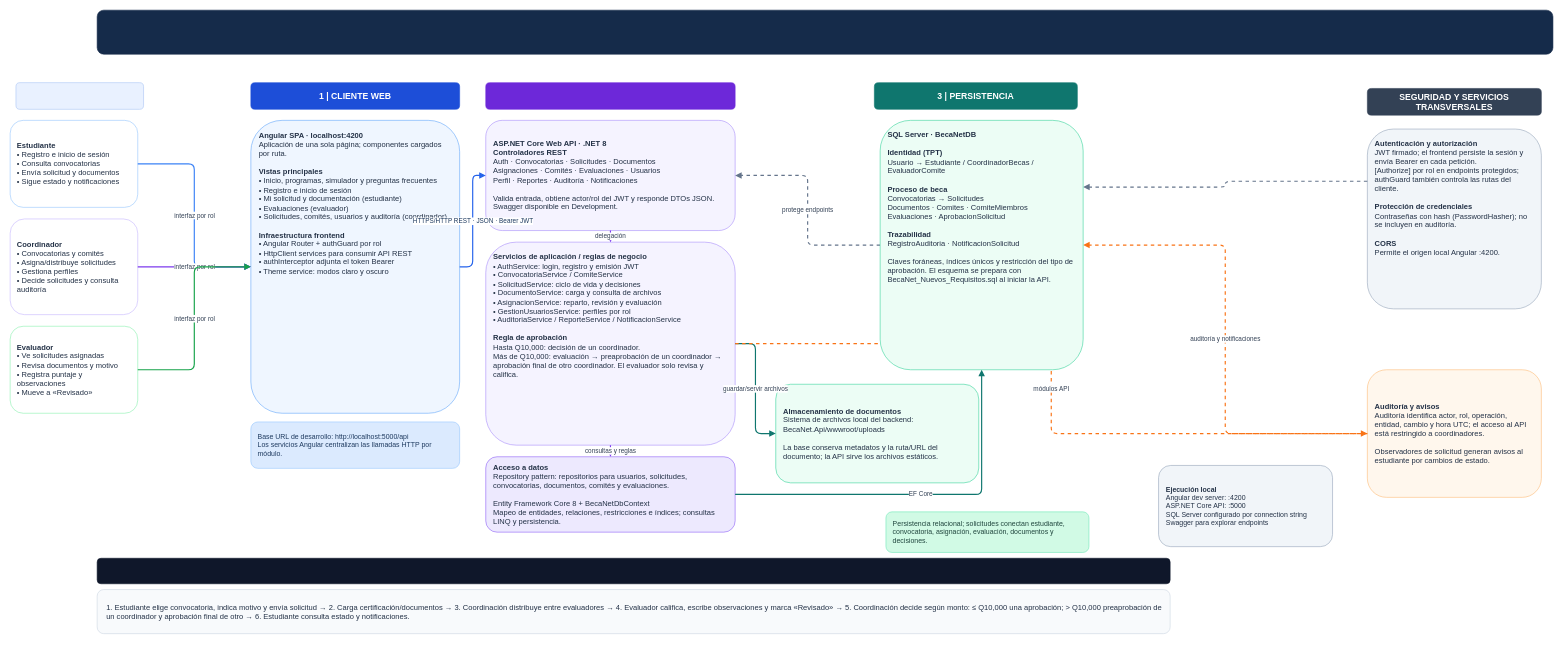
This 1563x667 diagram has some shape labels left out. Here are the shapes that lost their labels. From the top down, the centre of each, then its label:
At (825,32): "BecaNet | Arquitectura de la solución".
At (79,95): "PERSONAS Y ROLES".
At (610,95): "2 | API Y LÓGICA DE NEGOCIO".
At (633,571): "FLUJO PRINCIPAL DE UNA SOLICITUD".
